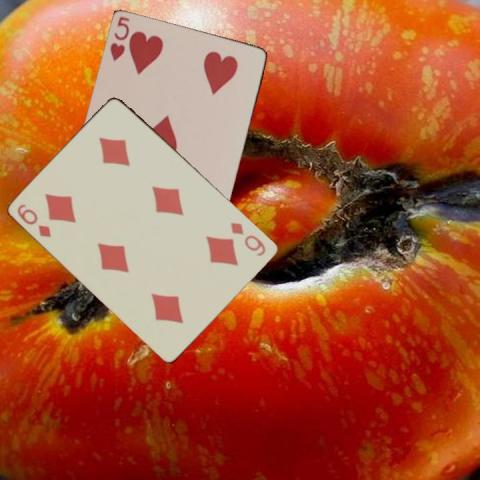5h: (108, 13, 132, 63)
6d: (227, 219, 268, 257), (15, 201, 53, 239)
